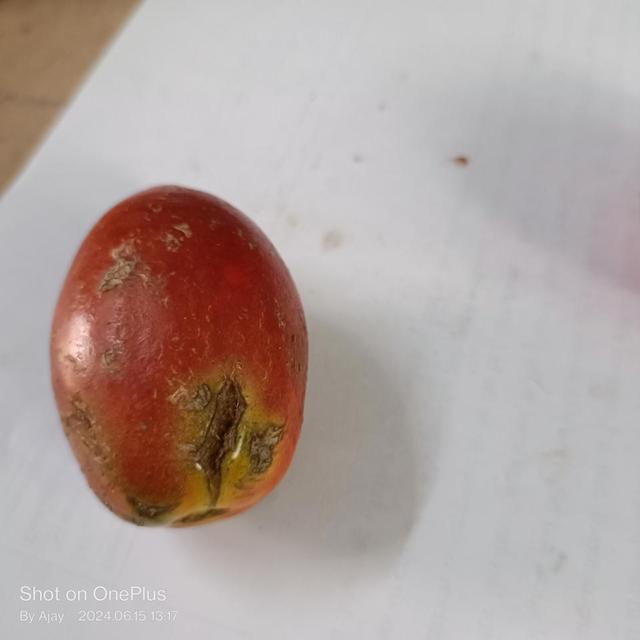Bacterial Spot Fruit: (24, 34, 175, 298)
